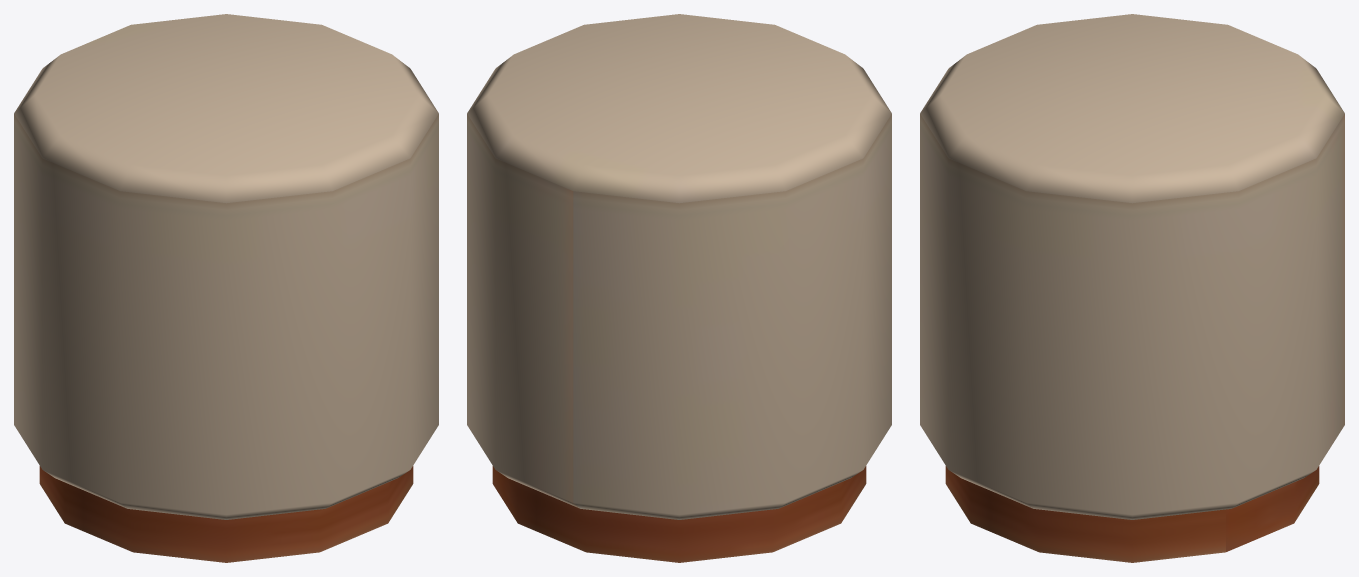
File: stool-01.glb
3 renders of one model, left to right at view 1: azimuth 30°, elevation 25°; view 2: azimuth 150°, elevation 25°; view 3: azimuth 270°, elevation 25°, orthographic.
Parts seen in each view (by area): view 1: Stool_01; view 2: Stool_01; view 3: Stool_01.
Boxes of the visible parts, left/top/right/bottom form: Stool_01: left=14, top=14, right=438, bottom=562; Stool_01: left=467, top=14, right=891, bottom=562; Stool_01: left=920, top=14, right=1344, bottom=562.
Bounding box in the file's own units: 0.7522 × 0.7603 × 0.7522.
1 material, 1 textured.
